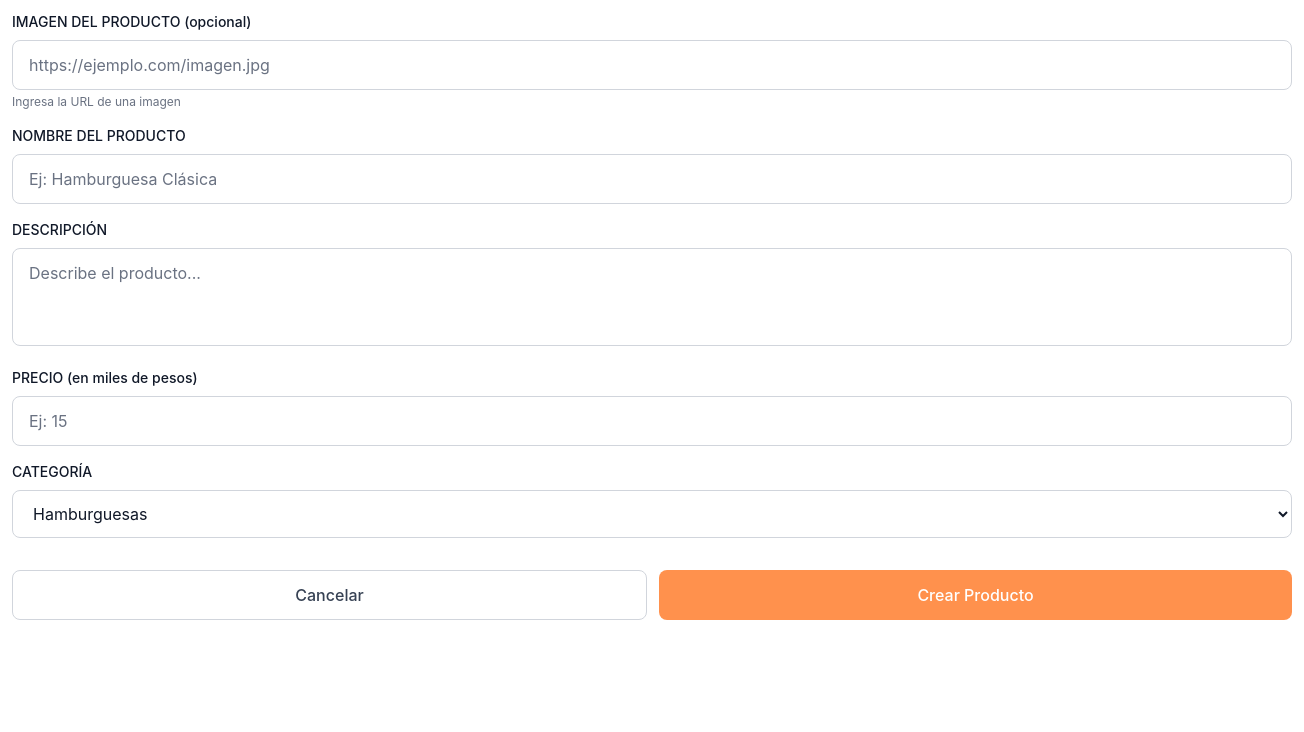
CreateProductForm › validates price is greater than 0
Type "0" into the number field labelled "PRECIO (en miles de pesos)".
click(652, 421); type("0")  # box [12,396,1292,446]
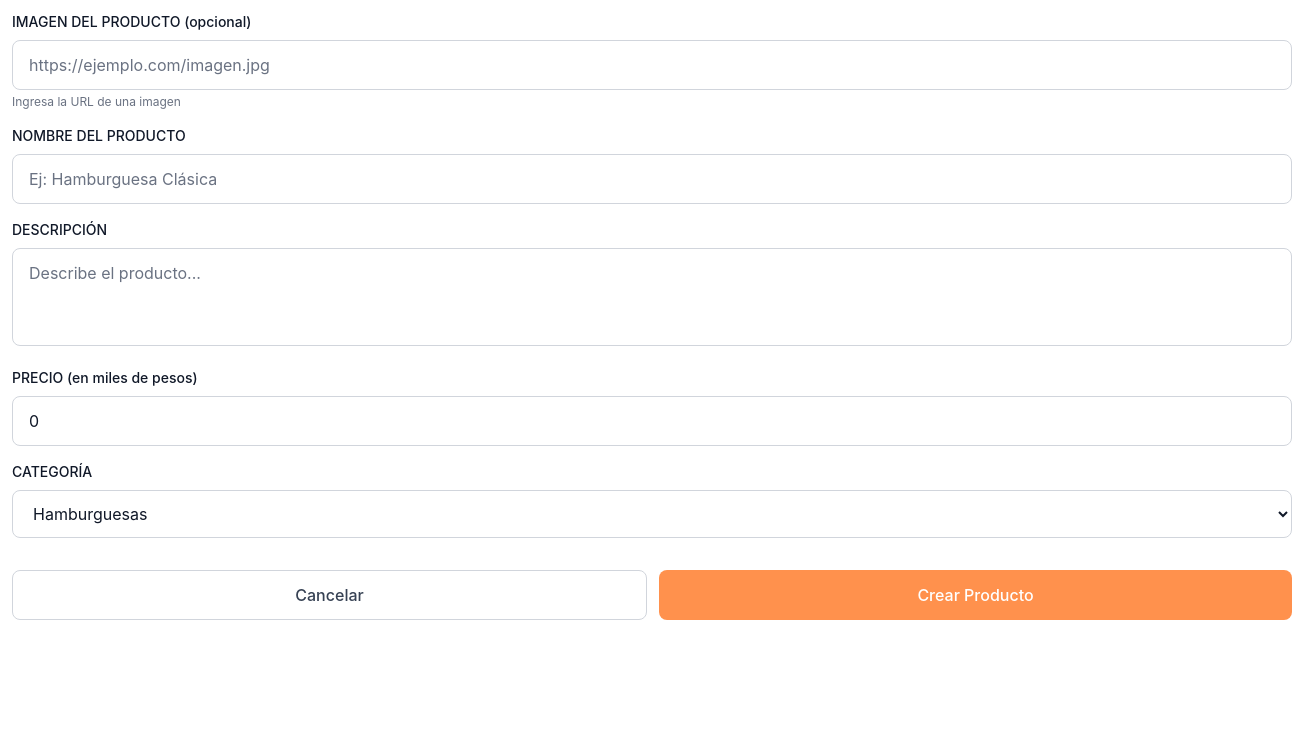
Click the button "Crear Producto".
click(976, 595)  # box [659,570,1292,620]
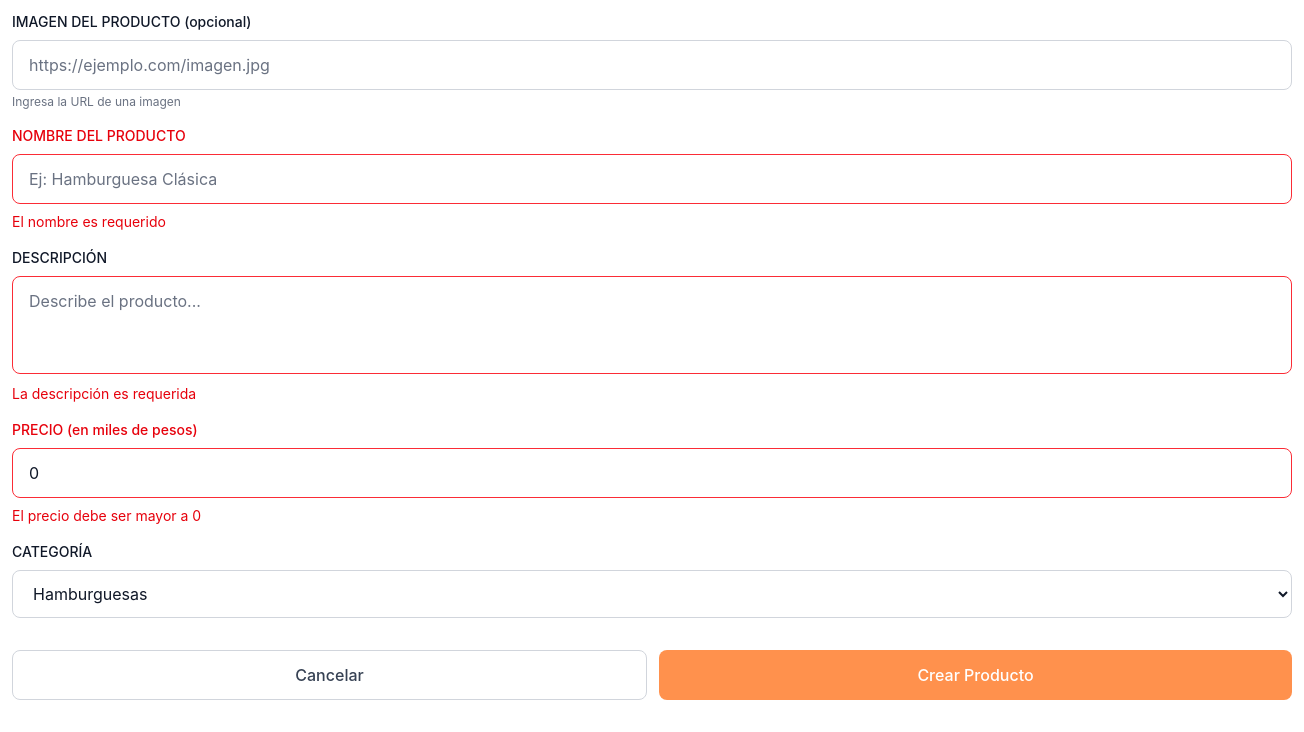
Now the text "El precio debe ser mayor a 0" is shown, box [12,507,201,524]
